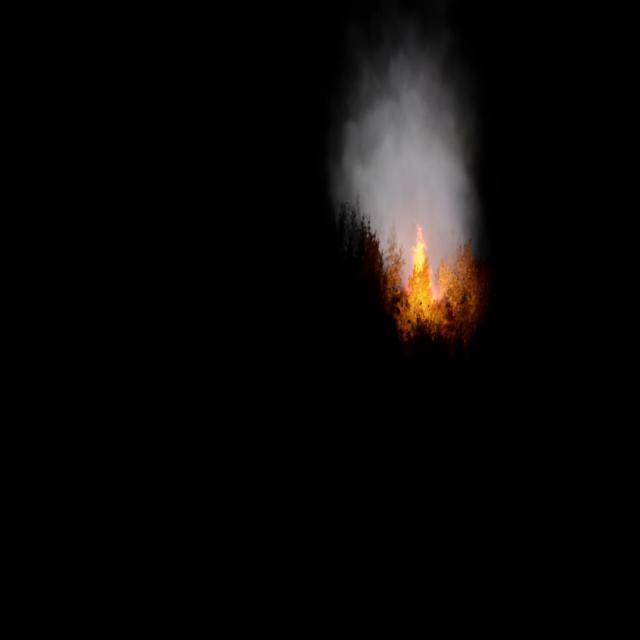fire: (411, 228, 430, 284)
smoke: (329, 4, 482, 287)
